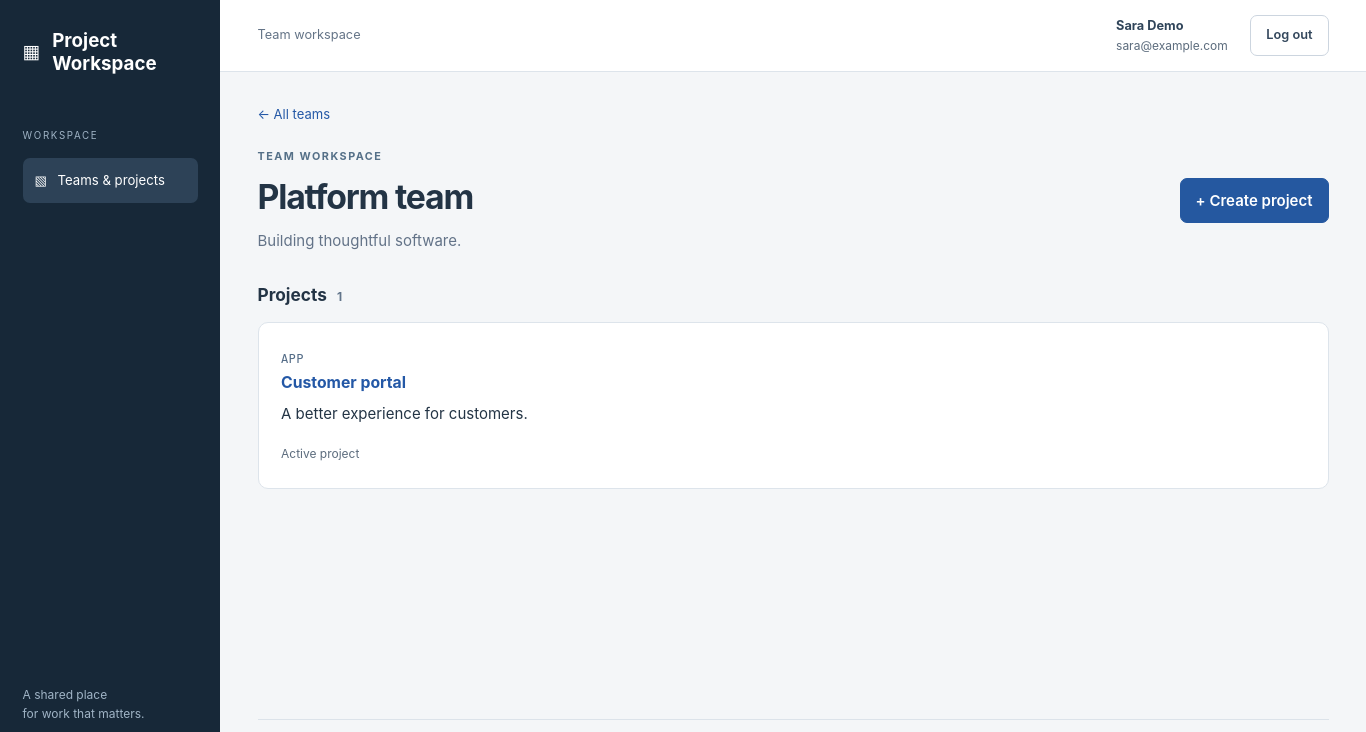
Scenario: project creation error is visible
The image size is (1366, 732).
Click the button "+ Create project" at (1254, 201), box [1180,178,1328,223]
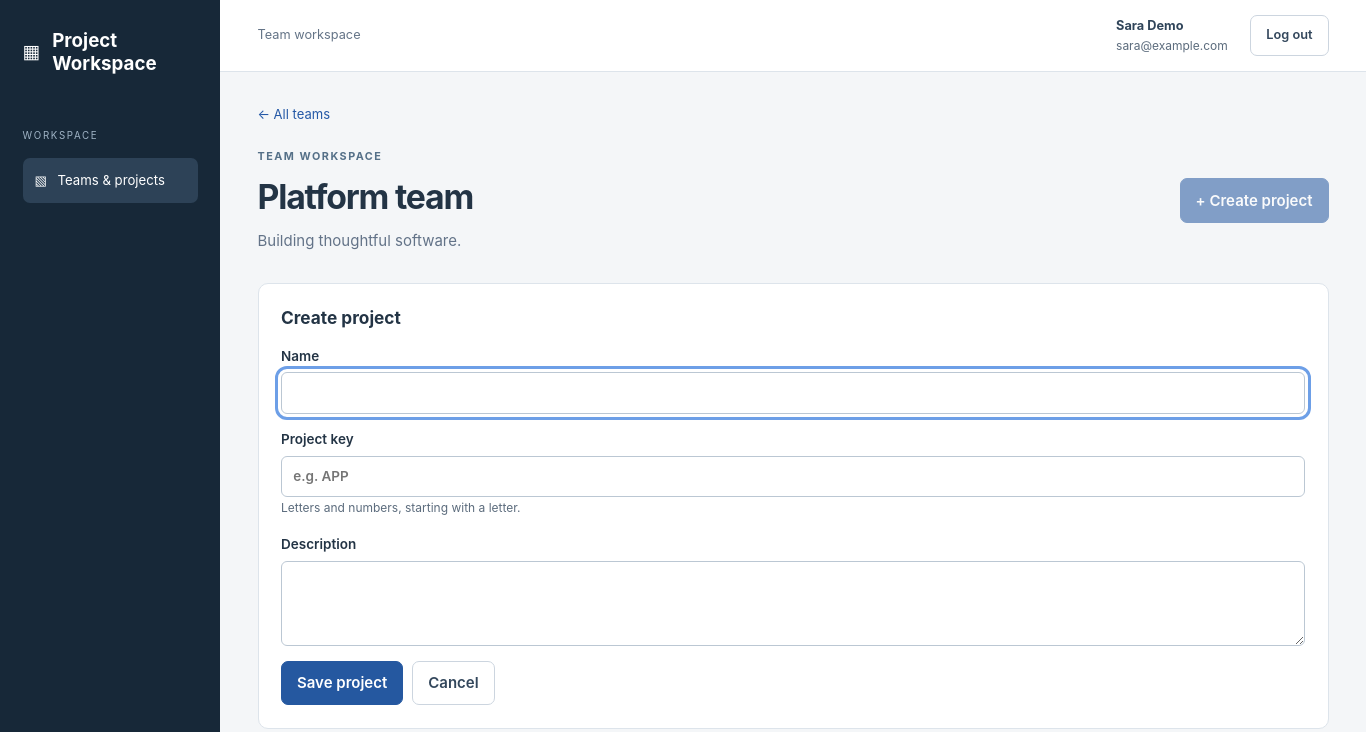
Type "Duplicate" into the field labelled "Name" at (793, 393), box [281,372,1305,414]
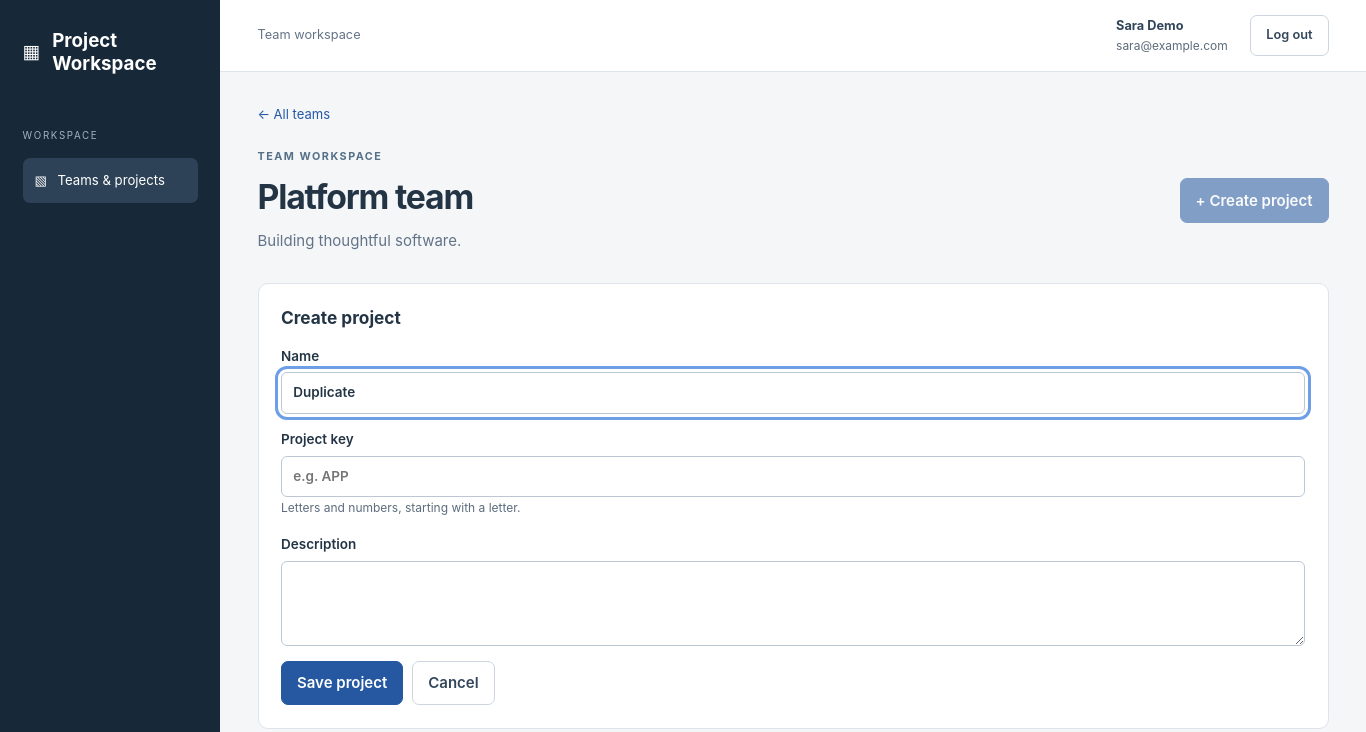
Type "APP" into the field labelled "Project key Letters and numbers, starting with a letter." at (793, 477), box [281,456,1305,498]
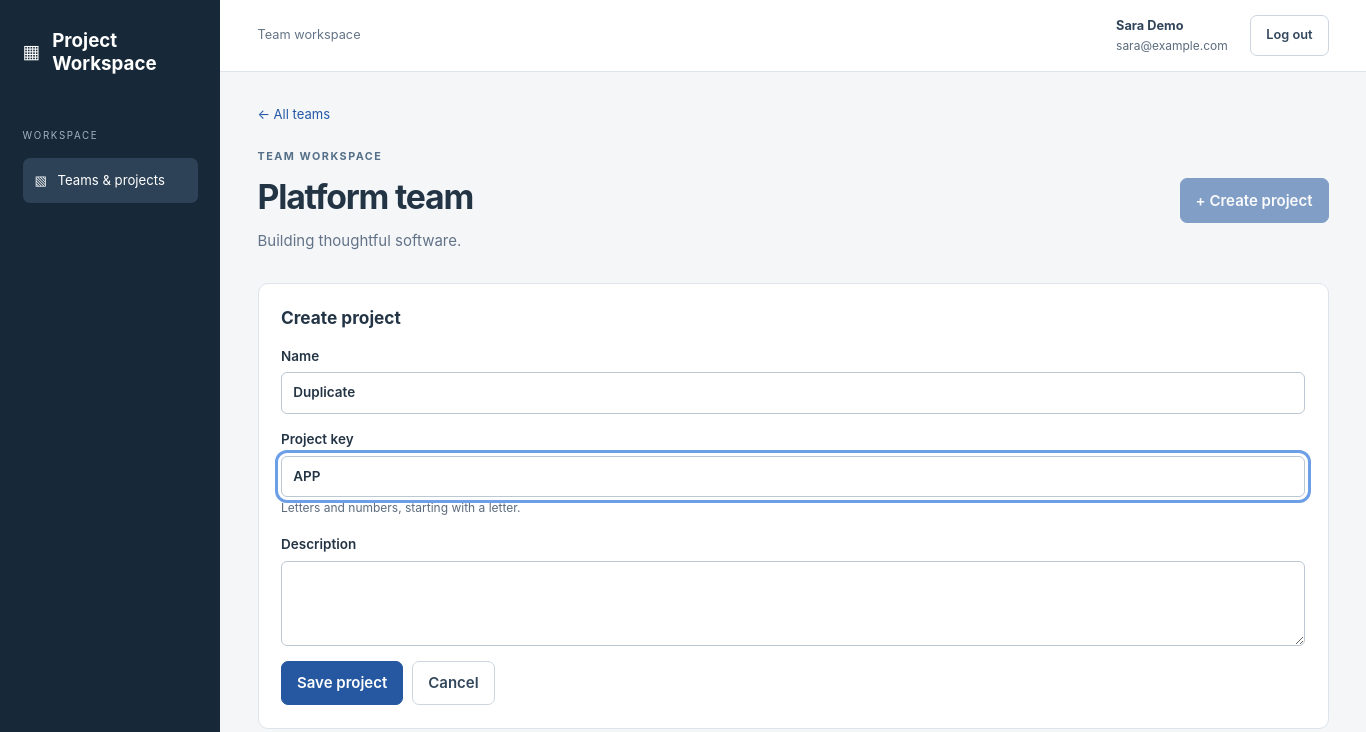
Click the button "Save project" at (342, 683), box [281,661,403,705]
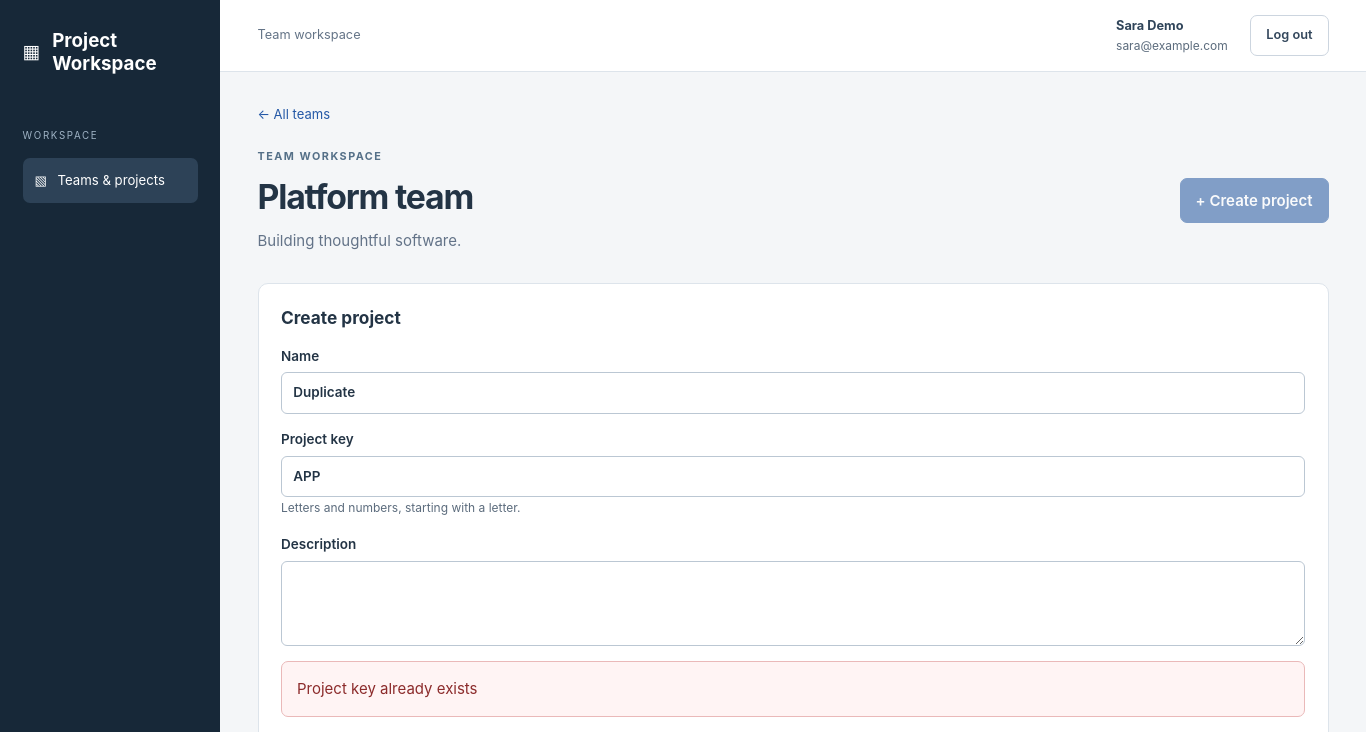
Expected: the message reads "Project key already exists", [297,679,478,698]
